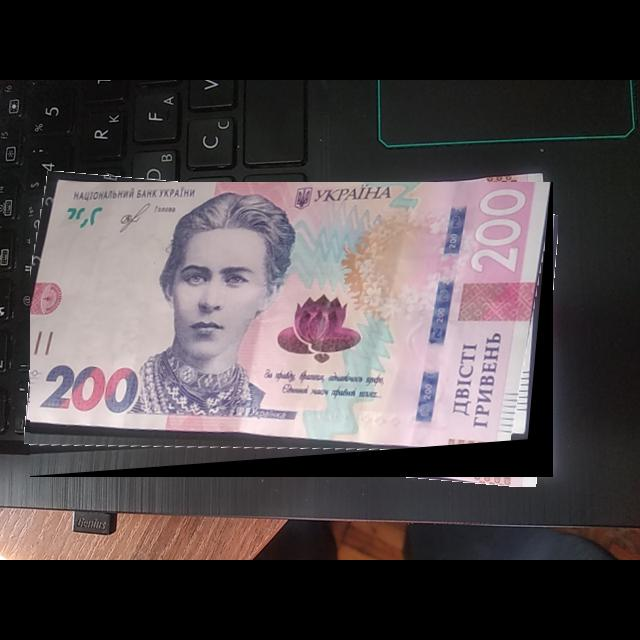200uah: (30, 182, 554, 478)
